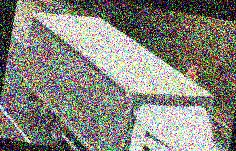truck: (11, 6, 236, 151)
